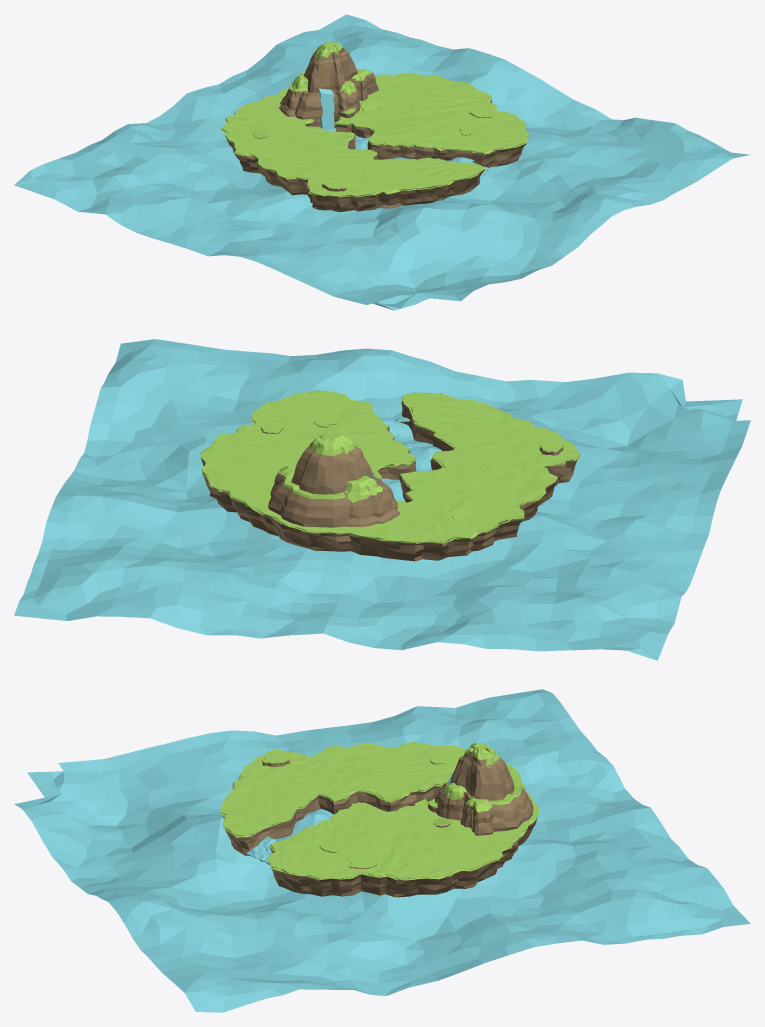
The model's file is terrenonov.fbx.
3 renders of one model, top to bottom at view 1: azimuth 30°, elevation 25°; view 2: azimuth 150°, elevation 25°; view 3: azimuth 270°, elevation 25°, orthographic. The views are drawn at different scales.
Parts seen in each view (by area): view 1: Plane.004, Plane, Plane.002, Plane.006, Plane.035, Plane.005; view 2: Plane.004, Plane, Plane.002, Plane.006, Plane.003; view 3: Plane.004, Plane, Plane.002, Plane.005, Plane.007, Plane.003.
Part boxes in pixels (x1,y1,x2,y2): Plane.004: (14,14,750,310); Plane: (221,72,528,212); Plane.002: (295,42,373,119); Plane.006: (279,73,308,116); Plane.035: (319,88,334,129); Plane.005: (351,69,378,100); Plane.004: (14,339,750,660); Plane: (200,390,580,561); Plane.002: (268,433,397,527); Plane.006: (342,475,399,526); Plane.003: (380,419,441,501); Plane.004: (14,689,750,1012); Plane: (220,741,539,897); Plane.002: (435,743,533,831); Plane.005: (460,796,494,835); Plane.007: (436,783,466,820); Plane.003: (274,799,434,842).
Bounding box in the file's own units: 30247 × 5322 × 29195.
